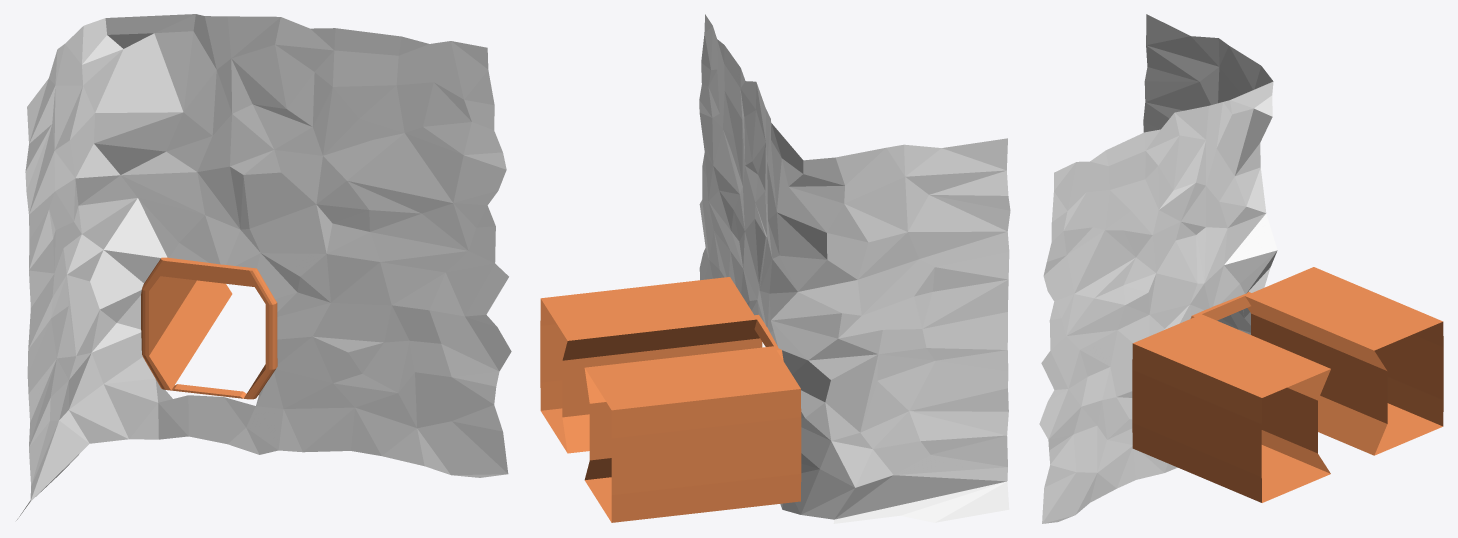
File: DoorWay_Rock.fbx
3 views of the same model, side by side, from view 1: azimuth 30°, elevation 25°; view 2: azimuth 150°, elevation 25°; view 3: azimuth 270°, elevation 25° (orthographic). The views are drawn at different scales.
Visible parts, largest first — view 1: Plane; view 2: Plane; view 3: Plane.
Boxes of the visible parts, <box> form: Plane: <box>16,14,511,520</box>; Plane: <box>540,14,1010,523</box>; Plane: <box>1039,14,1443,523</box>.
Bounding box in the file's own units: 1455 × 1304 × 1325.
